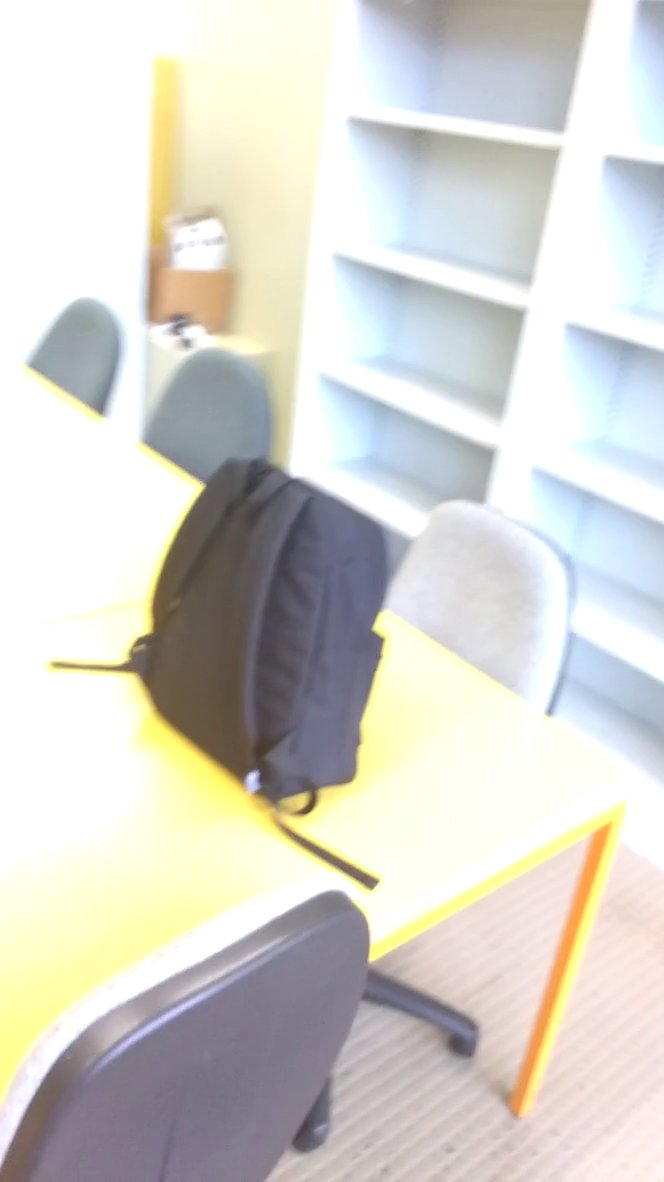bag: (119, 452, 399, 825)
chair: (2, 880, 391, 1182), (363, 476, 602, 741), (132, 337, 279, 511), (19, 287, 132, 430)
